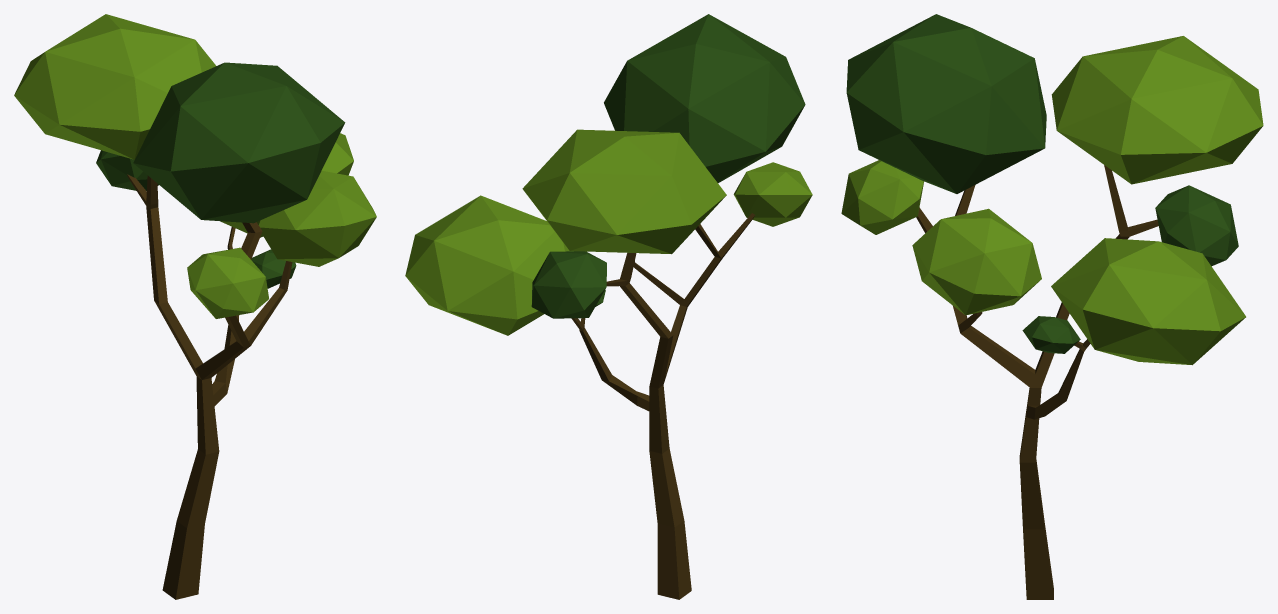
File: small_tree_2.fbx
3 renders of one model, left to right at view 1: azimuth 30°, elevation 25°; view 2: azimuth 150°, elevation 25°; view 3: azimuth 270°, elevation 25°, orthographic. The views are drawn at different scales.
Visible parts, largest first — view 1: GeoSphere025, GeoSphere024, Box002, GeoSphere027, GeoSphere026, GeoSphere028, GeoSphere029, GeoSphere030; view 2: GeoSphere025, GeoSphere024, GeoSphere029, Box002, GeoSphere028, GeoSphere026; view 3: GeoSphere025, GeoSphere024, GeoSphere029, GeoSphere027, Box002, GeoSphere028, GeoSphere026, GeoSphere030.
Part boxes in pixels (x1,y1,x2,y2): GeoSphere025: [133, 62, 345, 223]; GeoSphere024: [14, 14, 215, 159]; Box002: [127, 174, 292, 599]; GeoSphere027: [256, 170, 376, 266]; GeoSphere026: [187, 247, 268, 318]; GeoSphere028: [96, 150, 158, 190]; GeoSphere029: [220, 133, 353, 237]; GeoSphere030: [251, 249, 296, 288]; GeoSphere025: [604, 14, 805, 183]; GeoSphere024: [522, 129, 726, 254]; GeoSphere029: [405, 195, 573, 335]; Box002: [571, 213, 754, 599]; GeoSphere028: [531, 251, 606, 318]; GeoSphere026: [733, 162, 812, 226]; GeoSphere025: [846, 14, 1046, 193]; GeoSphere024: [1051, 36, 1263, 184]; GeoSphere029: [1051, 238, 1245, 365]; GeoSphere027: [912, 208, 1041, 315]; Box002: [916, 165, 1158, 599]; GeoSphere028: [1155, 185, 1238, 266]; GeoSphere026: [841, 160, 923, 234]; GeoSphere030: [1022, 316, 1080, 353].
Size of the model in its own units: 205 by 347 by 232.
